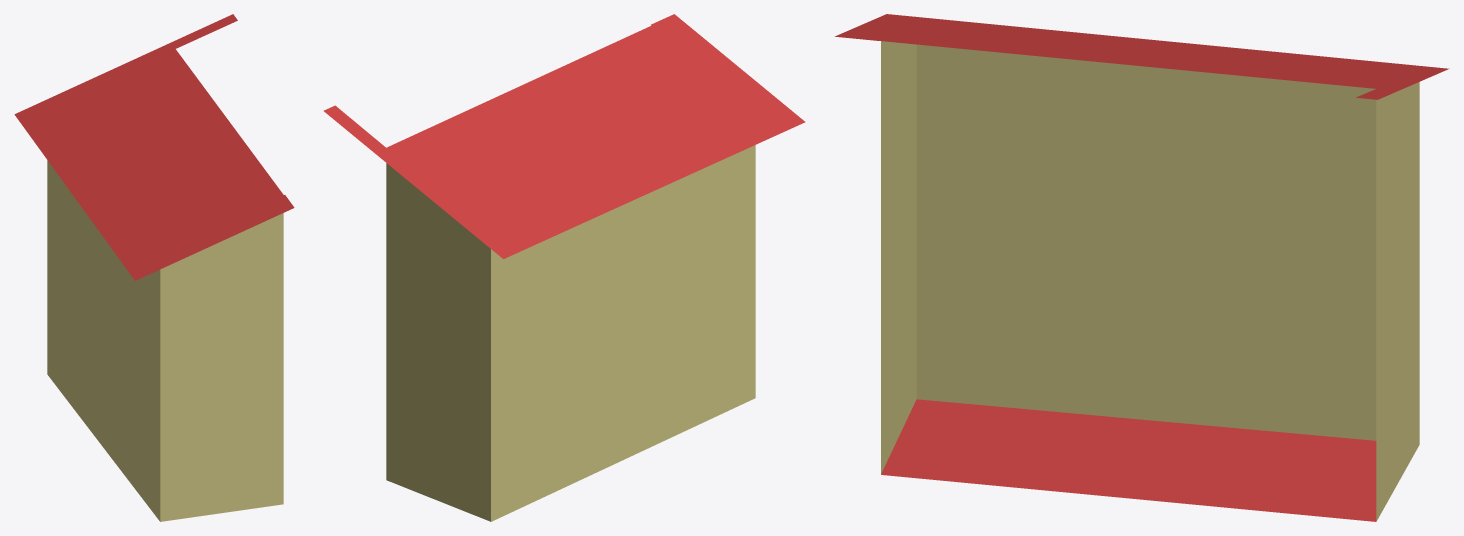
3 views of the same model, side by side, from view 1: azimuth 30°, elevation 25°; view 2: azimuth 150°, elevation 25°; view 3: azimuth 270°, elevation 25° (orthographic). The views are drawn at different scales.
Bounding box in the file's own units: 9.51 × 13.23 × 10.96.
